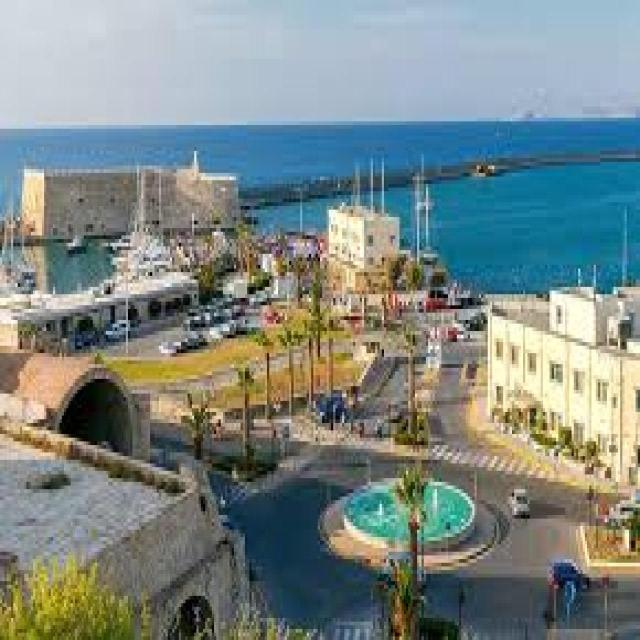Kules: (24, 156, 240, 243)
